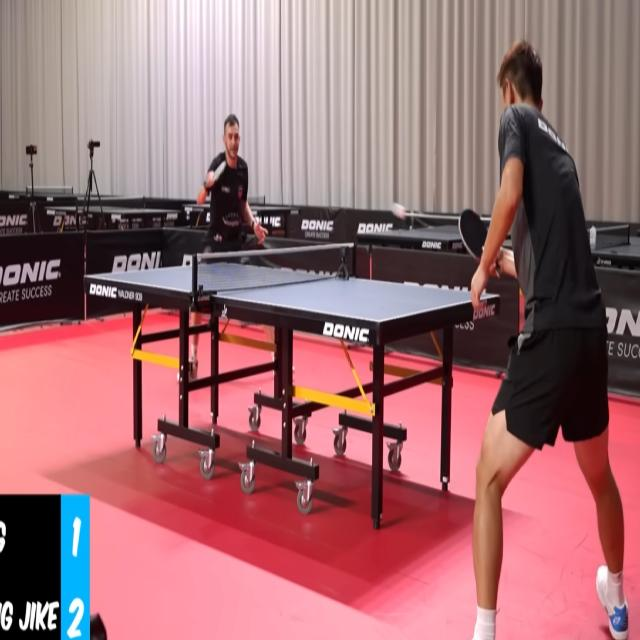TT Net: (189, 241, 358, 294)
TT Racket: (459, 209, 488, 261), (214, 162, 227, 180)
TT Table: (83, 224, 493, 346)
